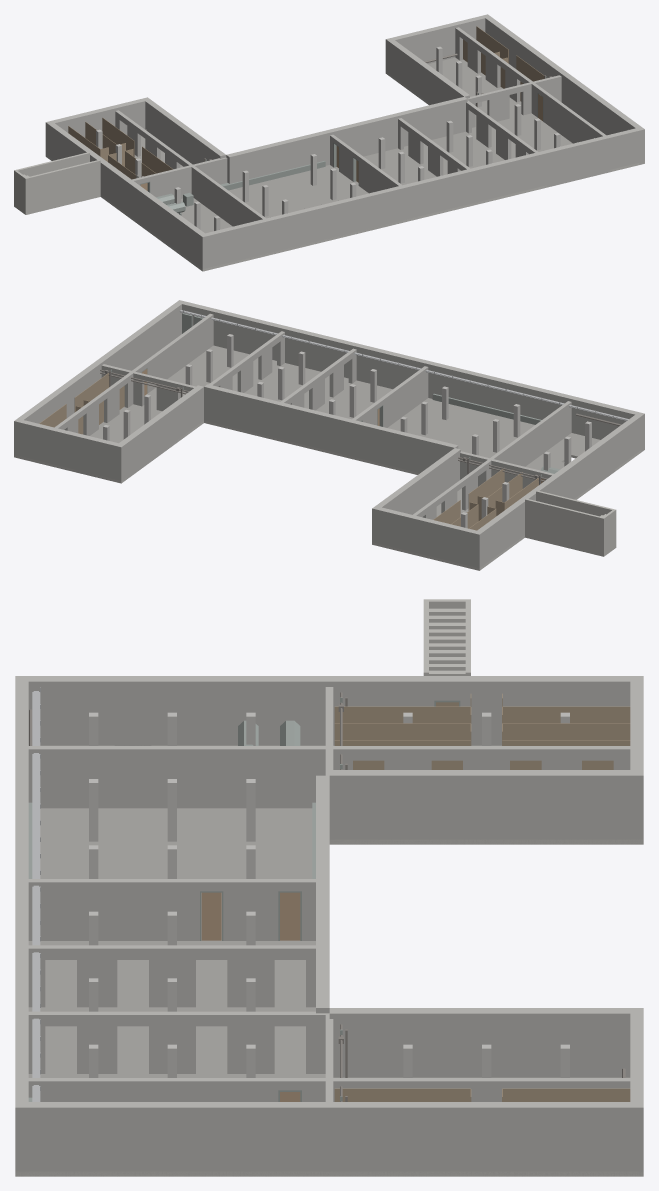
The model's file is b7_basement.glb.
3 renders of one model, top to bottom at view 1: azimuth 30°, elevation 25°; view 2: azimuth 150°, elevation 25°; view 3: azimuth 270°, elevation 25°, orthographic. The views are drawn at different scales.
Visible parts, largest first — view 1: b7_bsm_wall_f-1__basement_wall, b7_bsm_floor_f-1__basement_floor, b7_bsm_column_f-1__column, b7_bsm_pit_f-1__monolith, b7_bsm_grid_f-1__storage_grid, b7_bsm_floor_f-1__slab_edge, b7_bsm_equip_f-1__equipment; view 2: b7_bsm_wall_f-1__basement_wall, b7_bsm_floor_f-1__basement_floor, b7_bsm_column_f-1__column, b7_bsm_pit_f-1__monolith, b7_bsm_grid_f-1__storage_grid, b7_bsm_floor_f-1__slab_edge, b7_bsm_tray_f-1__cable_tray, b7_bsm_equip_f-1__equipment, b7_bsm_pipe_f-1__pipe; view 3: b7_bsm_wall_f-1__basement_wall, b7_bsm_floor_f-1__basement_floor, b7_bsm_grid_f-1__storage_grid, b7_bsm_column_f-1__column, b7_bsm_floor_f-1__slab_edge, b7_bsm_pit_f-1__monolith, b7_bsm_tray_f-1__cable_tray, b7_bsm_equip_f-1__equipment, b7_door_052, b7_door_053, b7_bsm_pipe_f-1__pipe.
Part boxes in pixels (x1=…): b7_bsm_wall_f-1__basement_wall: x1=45, y1=14, x2=644, y2=271; b7_bsm_floor_f-1__basement_floor: x1=134, y1=57, x2=572, y2=233; b7_bsm_column_f-1__column: x1=96, y1=46, x2=560, y2=230; b7_bsm_pit_f-1__monolith: x1=14, y1=152, x2=100, y2=214; b7_bsm_grid_f-1__storage_grid: x1=68, y1=26, x2=544, y2=179; b7_bsm_floor_f-1__slab_edge: x1=45, y1=71, x2=644, y2=271; b7_bsm_equip_f-1__equipment: x1=137, y1=76, x2=546, y2=215; b7_bsm_wall_f-1__basement_wall: x1=14, y1=300, x2=644, y2=570; b7_bsm_floor_f-1__basement_floor: x1=90, y1=345, x2=600, y2=516; b7_bsm_column_f-1__column: x1=103, y1=334, x2=591, y2=528; b7_bsm_pit_f-1__monolith: x1=525, y1=490, x2=616, y2=556; b7_bsm_grid_f-1__storage_grid: x1=39, y1=373, x2=538, y2=530; b7_bsm_floor_f-1__slab_edge: x1=14, y1=420, x2=641, y2=570; b7_bsm_tray_f-1__cable_tray: x1=179, y1=310, x2=628, y2=420; b7_bsm_equip_f-1__equipment: x1=111, y1=313, x2=560, y2=480; b7_bsm_pipe_f-1__pipe: x1=100, y1=369, x2=621, y2=484; b7_bsm_wall_f-1__basement_wall: x1=15, y1=676, x2=643, y2=1176; b7_bsm_floor_f-1__basement_floor: x1=28, y1=745, x2=629, y2=1077; b7_bsm_grid_f-1__storage_grid: x1=334, y1=693, x2=630, y2=1101; b7_bsm_column_f-1__column: x1=89, y1=712, x2=569, y2=1077; b7_bsm_floor_f-1__slab_edge: x1=15, y1=745, x2=643, y2=1176; b7_bsm_pit_f-1__monolith: x1=423, y1=599, x2=470, y2=675; b7_bsm_tray_f-1__cable_tray: x1=32, y1=687, x2=40, y2=1101; b7_bsm_equip_f-1__equipment: x1=28, y1=697, x2=460, y2=1101; b7_door_052: x1=280, y1=892, x2=300, y2=940; b7_door_053: x1=201, y1=892, x2=221, y2=940; b7_bsm_pipe_f-1__pipe: x1=29, y1=692, x2=625, y2=1101.
Size of the model in its own units: 45.6 by 3.05 by 24.
